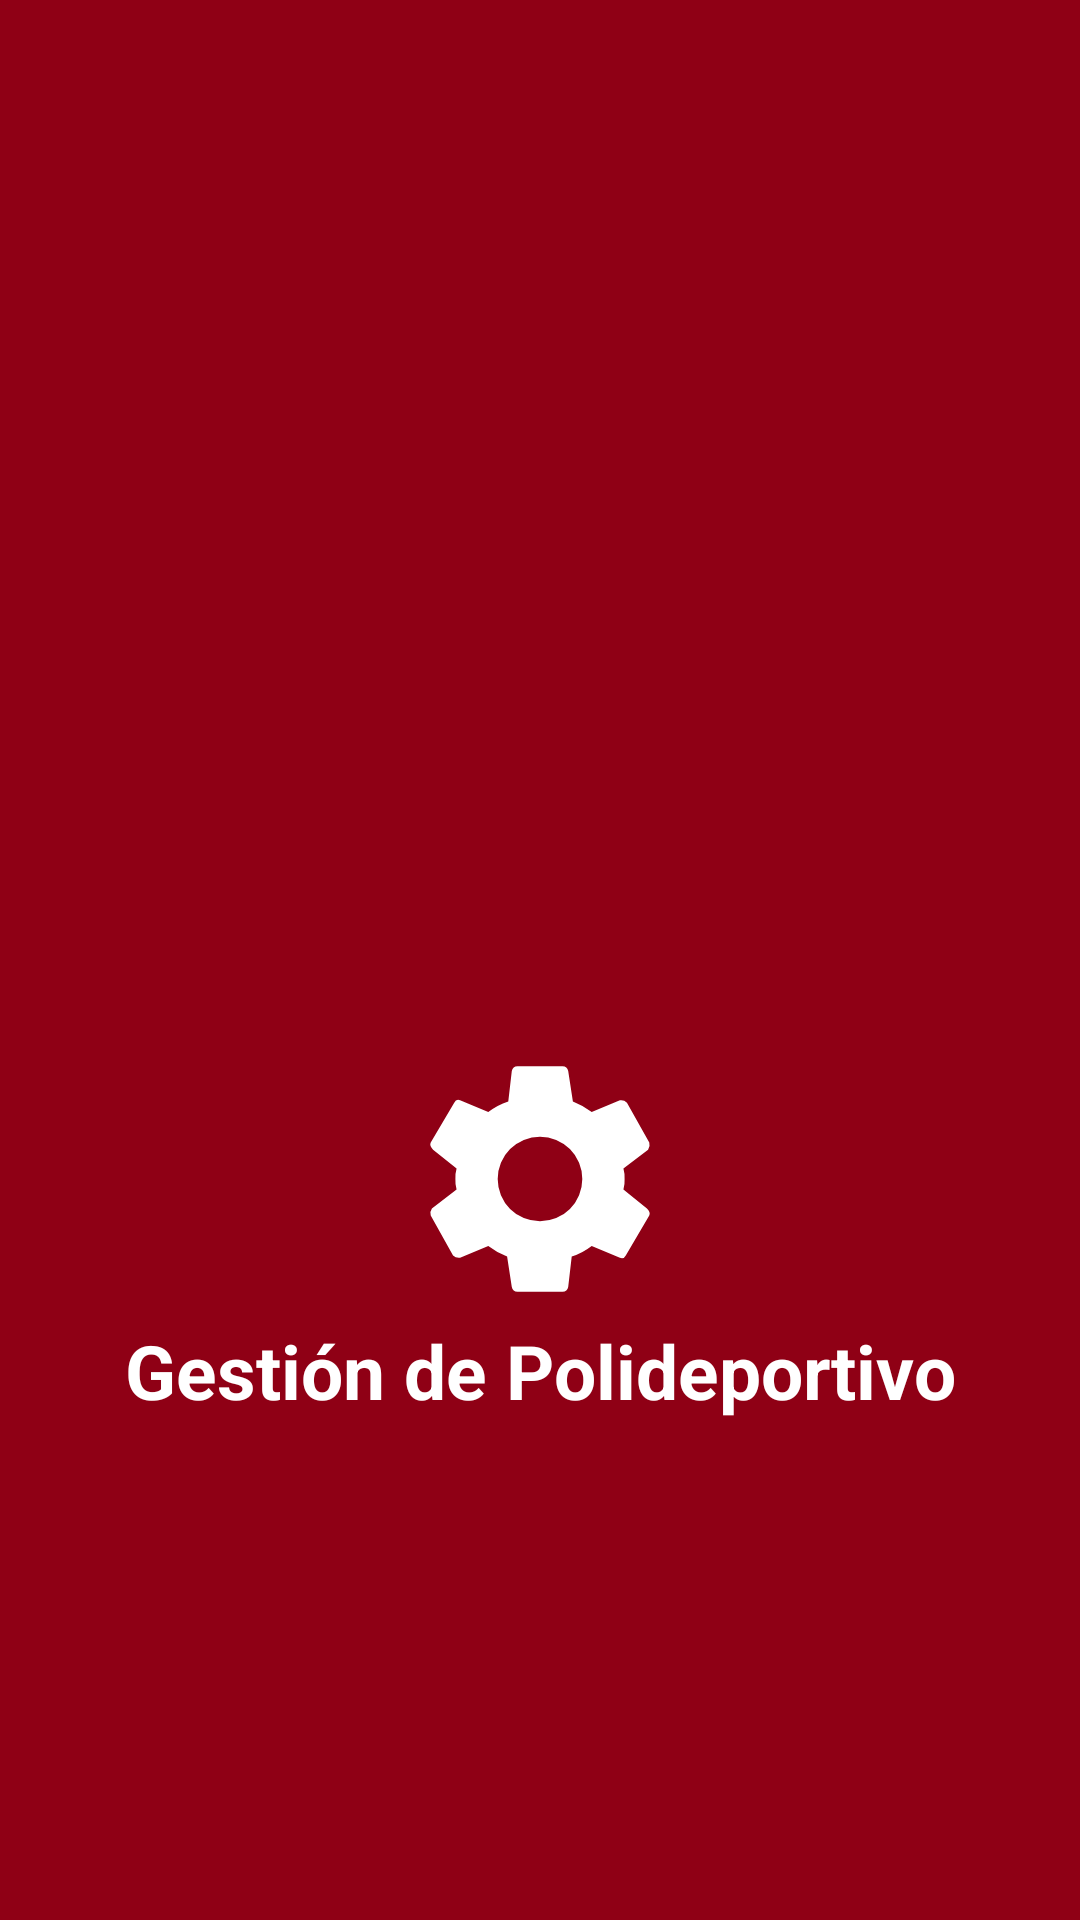

Icon click points for this 1080*1920 phone screenshot, format point (x, y):
gestion: point (540, 1179)
